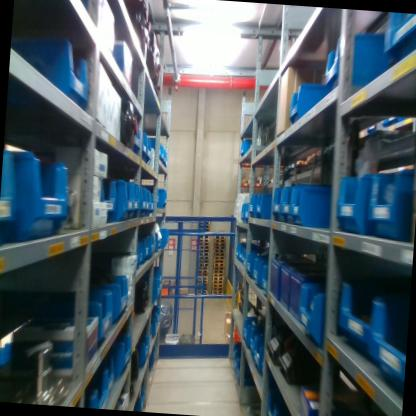pallet: (212, 269, 224, 276), (173, 291, 189, 296), (214, 237, 227, 243), (215, 230, 227, 236), (215, 233, 227, 239), (214, 240, 226, 246), (214, 251, 226, 257), (213, 261, 225, 267), (212, 278, 224, 284), (214, 247, 225, 253), (213, 254, 224, 260), (198, 264, 209, 270), (214, 244, 227, 249), (211, 283, 224, 288), (211, 286, 224, 291), (213, 266, 225, 271), (212, 276, 224, 281), (200, 234, 210, 240), (198, 261, 210, 266), (198, 271, 208, 277), (199, 220, 210, 225), (212, 289, 223, 294), (199, 238, 210, 243), (199, 251, 210, 256), (199, 257, 210, 262), (198, 268, 209, 273), (198, 279, 209, 284), (176, 288, 189, 292), (213, 258, 226, 262), (200, 224, 210, 229), (200, 228, 210, 233), (199, 242, 209, 247), (199, 248, 209, 253), (198, 275, 208, 280), (242, 179, 252, 184), (213, 273, 225, 277), (198, 285, 207, 290), (198, 292, 209, 296), (199, 245, 209, 249), (199, 255, 209, 259), (198, 282, 208, 286), (197, 290, 207, 294), (255, 179, 263, 184), (269, 180, 274, 184)
pallet_truck: (240, 275, 246, 295)
